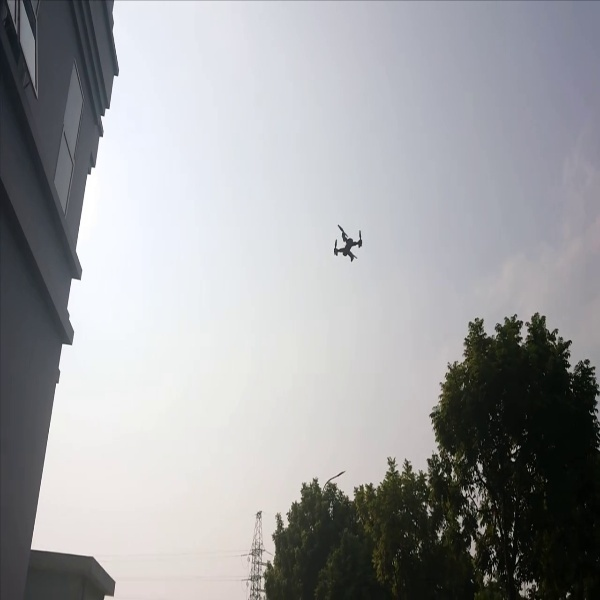drone: (322, 216, 373, 269)
